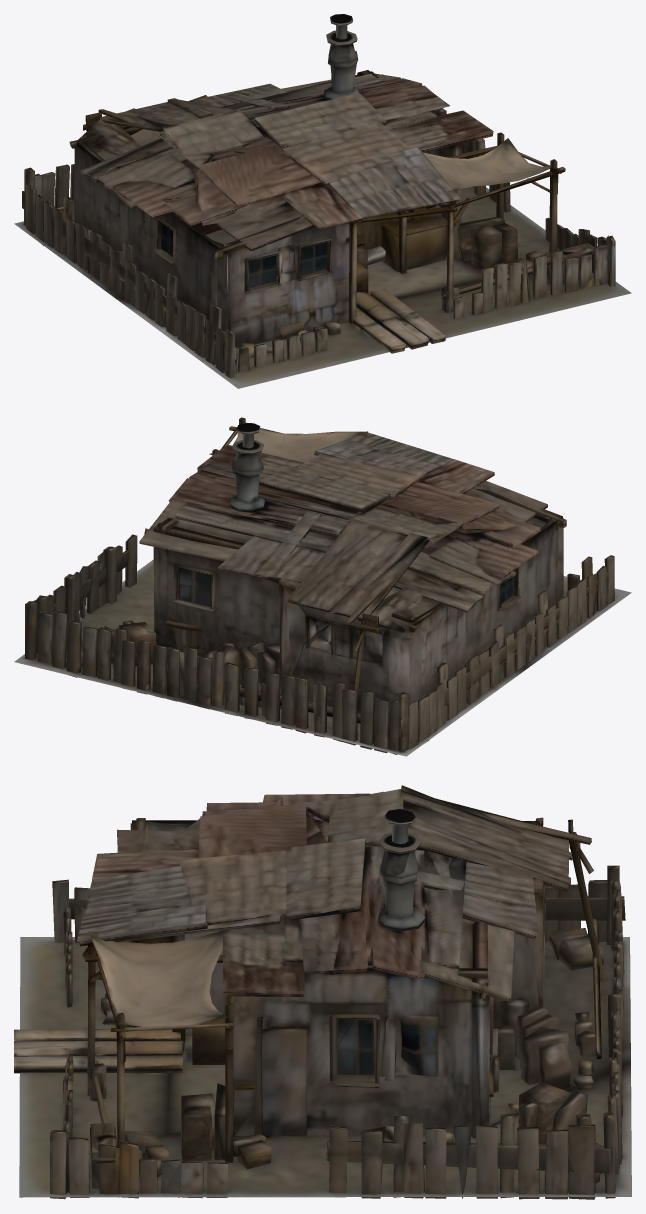
Rendered from CasaSkaa6.glb.
3 views of the same model, one above another, from view 1: azimuth 30°, elevation 25°; view 2: azimuth 150°, elevation 25°; view 3: azimuth 270°, elevation 25° (orthographic). The views are drawn at different scales.
Visible parts, largest first — view 1: geometry_0; view 2: geometry_0; view 3: geometry_0.
Boxes of the visible parts, box(x1,y1,x2,y2) form: geometry_0: box(14, 14, 631, 388); geometry_0: box(14, 417, 631, 756); geometry_0: box(14, 785, 631, 1199).
Size of the model in its own units: 0.9934 by 0.5137 by 0.9965.
1 material, 1 textured.
